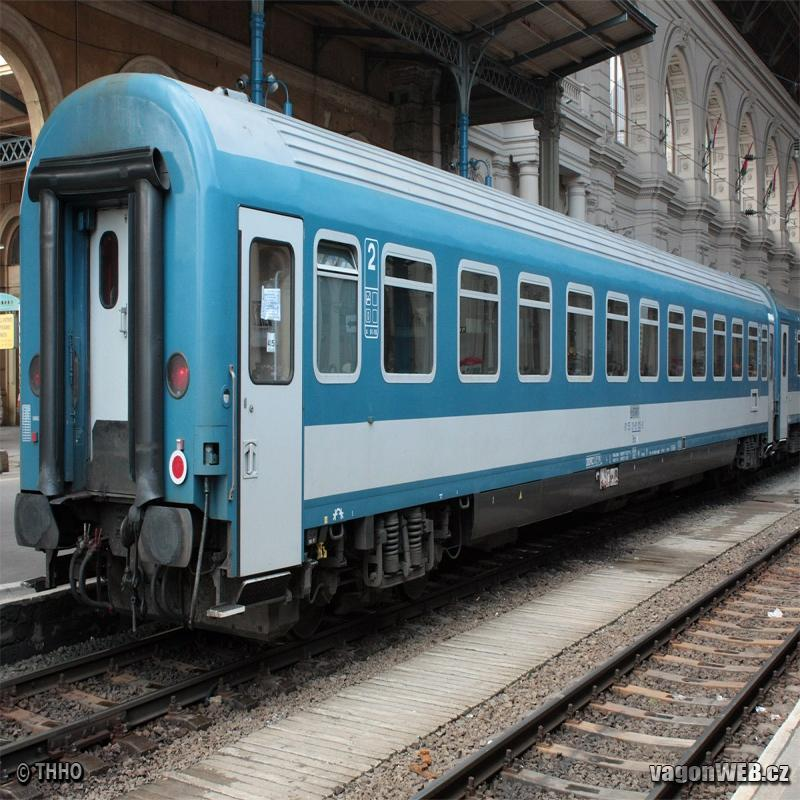train: (18, 73, 777, 692)
